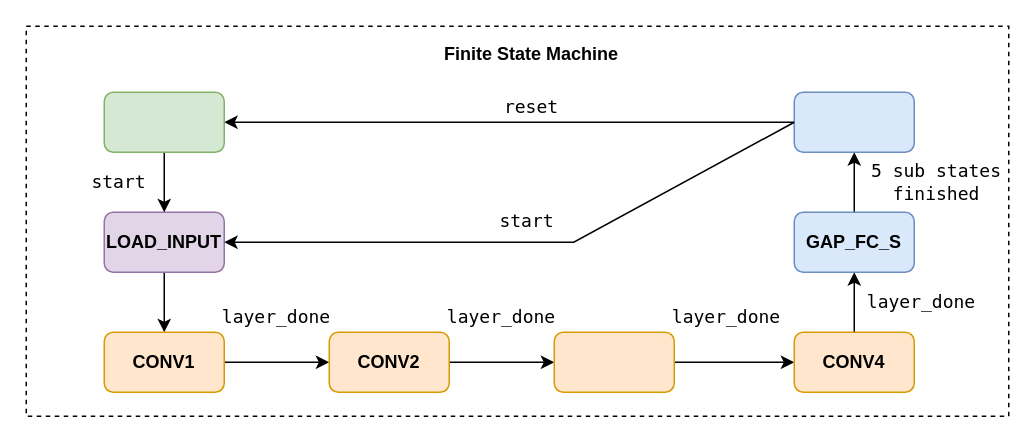
This 1035x443 diagram has some shape labels left out. The centre of each missing label's shape, as x and y in pixels:
"CONV3" goes at pixel 613 361.
"DONE_S" goes at pixel 853 121.
"IDLE" goes at pixel 163 121.
